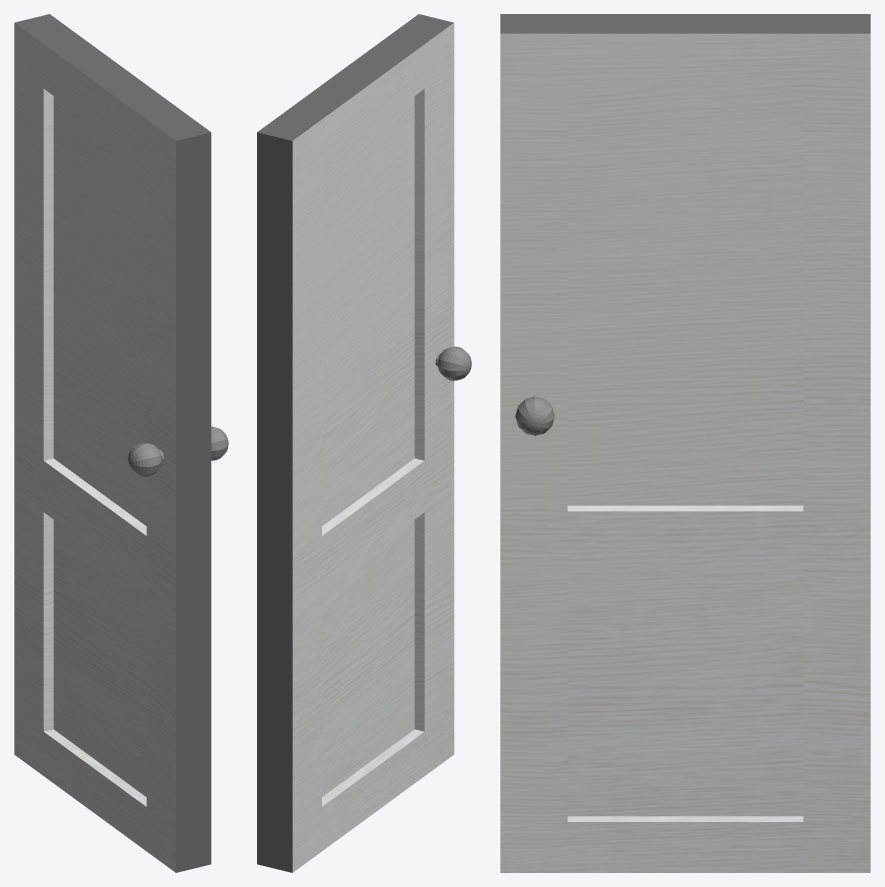
File: Door.fbx
The picture shows the model from 3 angles, left to right: view 1: azimuth 30°, elevation 25°; view 2: azimuth 150°, elevation 25°; view 3: azimuth 270°, elevation 25°; orthographic projection. The views are drawn at different scales.
Visible parts, largest first — view 1: Cube.001, Sphere.001, Sphere; view 2: Cube.001, Sphere.001; view 3: Cube.001, Sphere.
Boxes of the visible parts, x1,y1,x2,y2 form: Cube.001: (14, 14, 211, 872); Sphere.001: (128, 442, 163, 476); Sphere: (211, 426, 228, 460); Cube.001: (257, 14, 454, 872); Sphere.001: (435, 346, 471, 380); Cube.001: (500, 14, 870, 872); Sphere: (515, 396, 554, 435).
Bounding box in the file's own units: 51.59 × 375 × 150.
4 materials, 1 textured.
